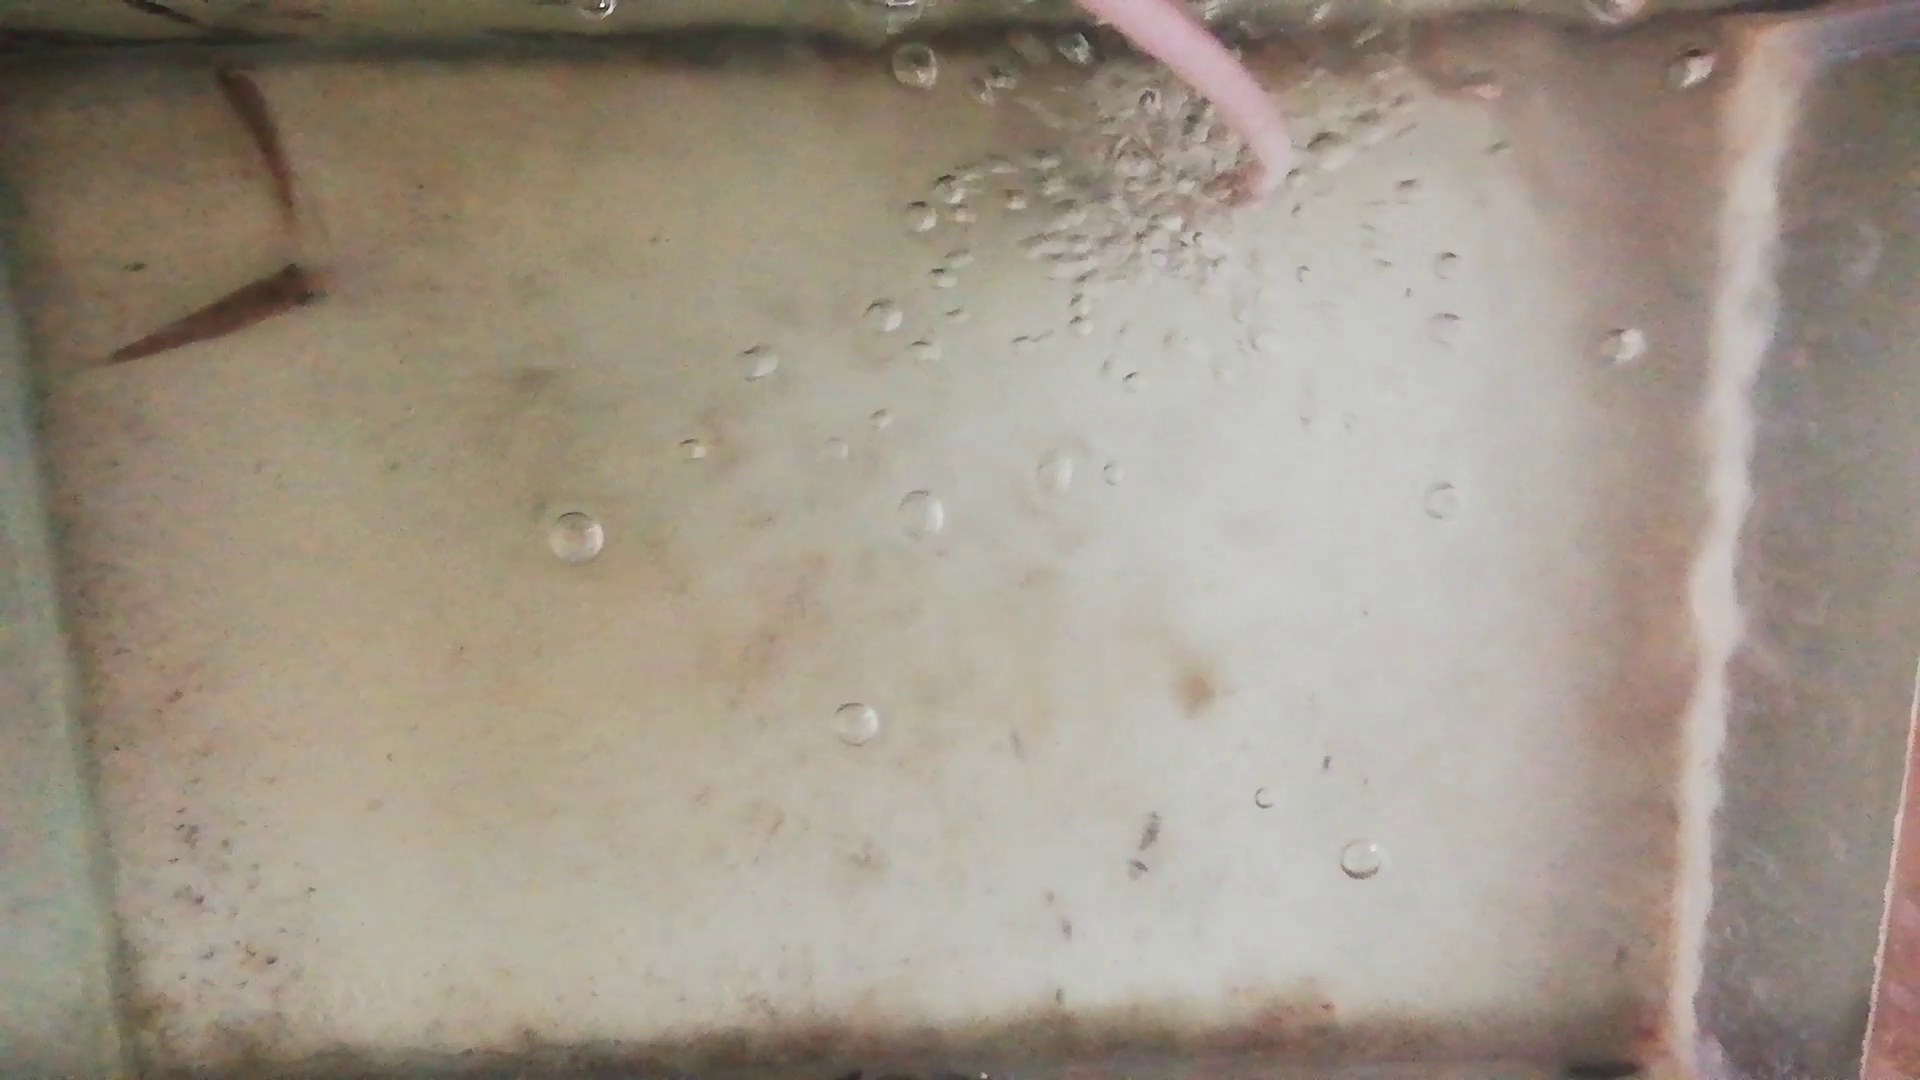fish: (113, 264, 336, 364), (211, 58, 297, 214)
